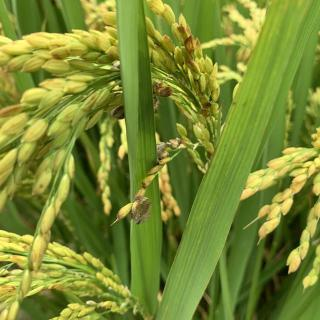Gosong-Palsu: (130, 198, 152, 224), (155, 140, 171, 162), (110, 104, 126, 120)
